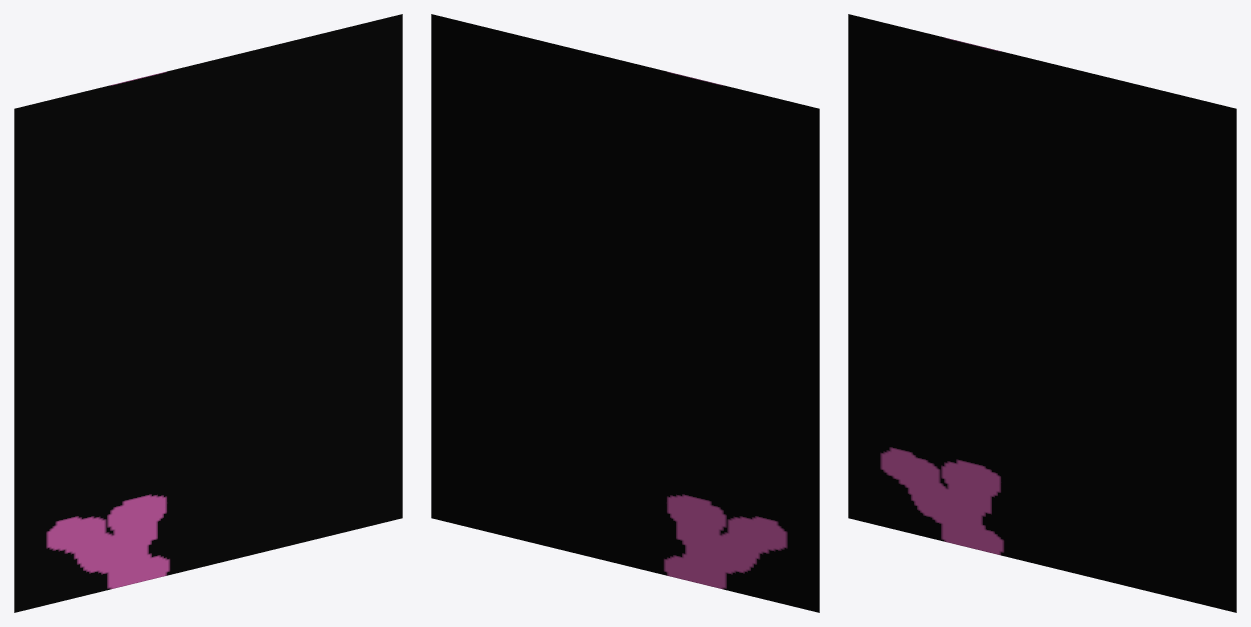
File: cards.FBX
3 views of the same model, side by side, from view 1: azimuth 30°, elevation 25°; view 2: azimuth 150°, elevation 25°; view 3: azimuth 330°, elevation 25° (orthographic).
Visible parts, largest first — view 1: Plane001; view 2: Plane001; view 3: Plane001.
Boxes of the visible parts, x1,y1,x2,y2 form: Plane001: [14, 14, 402, 612]; Plane001: [431, 14, 819, 612]; Plane001: [848, 14, 1236, 612].
Size of the model in its own units: 7.05 by 8.74 by 2.06e-06.
